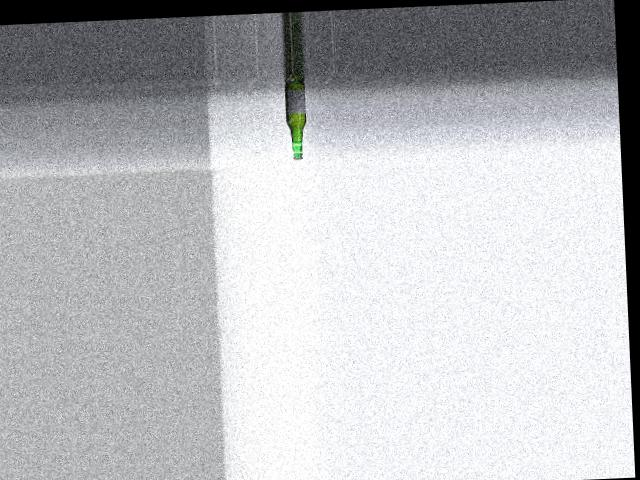beer: (284, 81, 307, 159)
